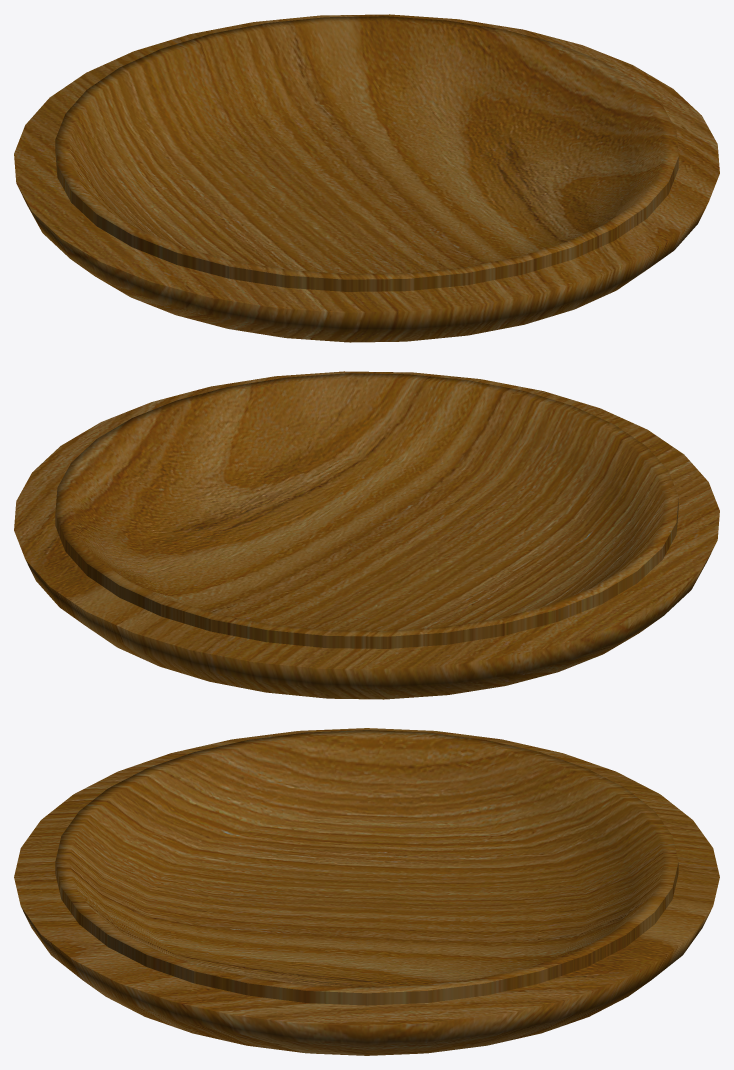
The model's file is agehama 1.fbx.
3 renders of one model, top to bottom at view 1: azimuth 30°, elevation 25°; view 2: azimuth 150°, elevation 25°; view 3: azimuth 270°, elevation 25°, orthographic.
Visible parts, largest first — view 1: 円柱; view 2: 円柱; view 3: 円柱.
Part boxes in pixels (x1=…): 円柱: x1=14, y1=14, x2=719, y2=342; 円柱: x1=14, y1=371, x2=719, y2=699; 円柱: x1=14, y1=728, x2=719, y2=1055.
Size of the model in its own units: 12.54 by 2.11 by 12.54.
